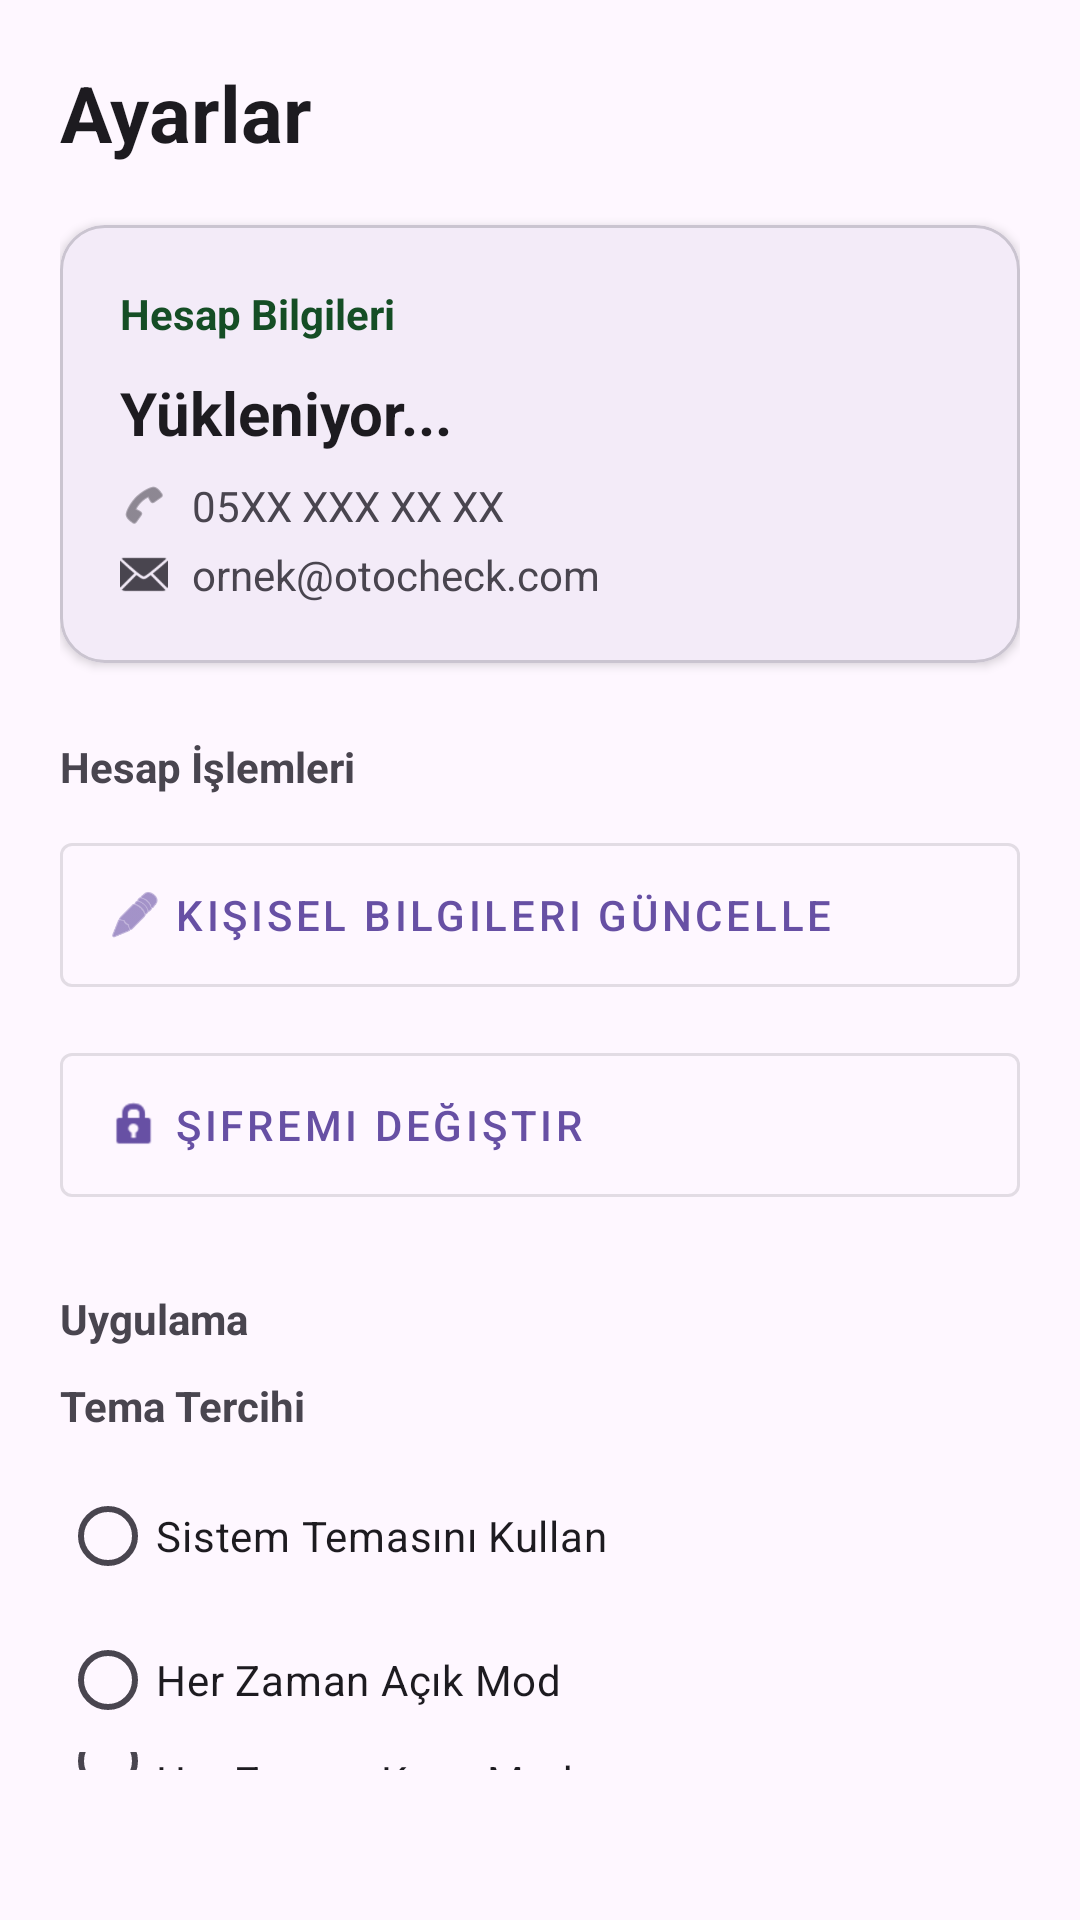

Icons on this 1080×1920 Android screen, each with its box as [x1=x1, y1=y1, x2=x2, y2=y2]:
call: [x1=126, y1=487, x2=163, y2=524]
email: [x1=120, y1=557, x2=168, y2=591]
